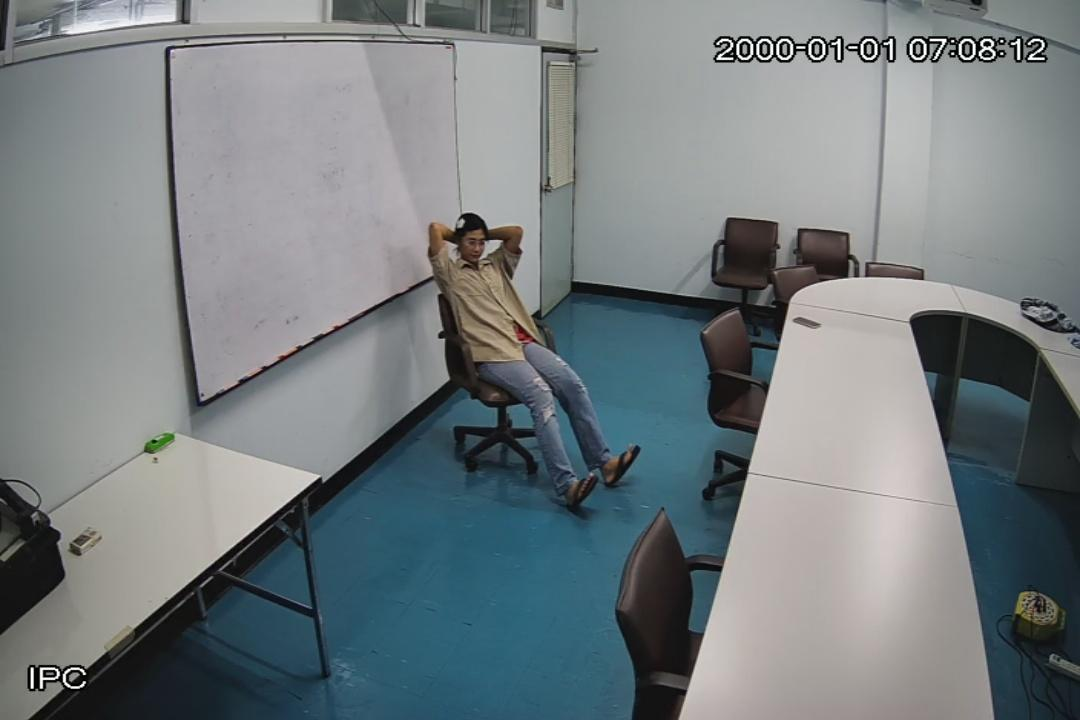normal: (426, 212, 641, 505)
